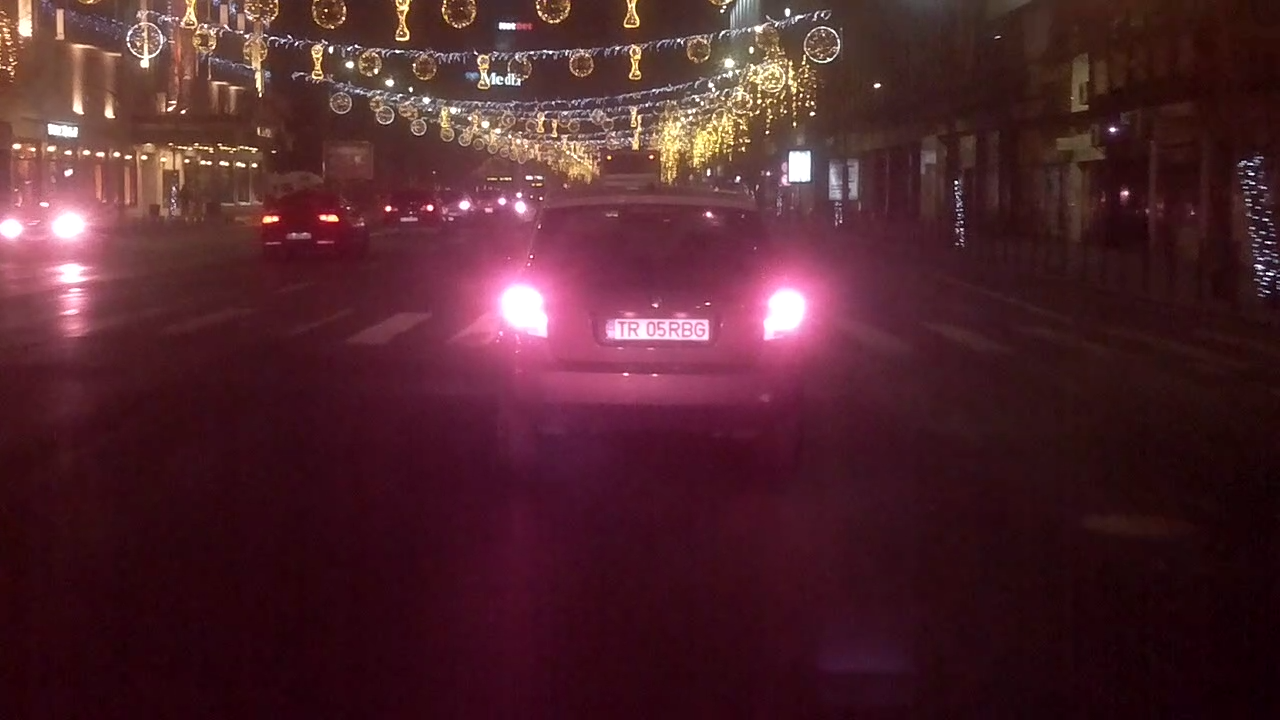license-plate: (602, 313, 713, 344)
